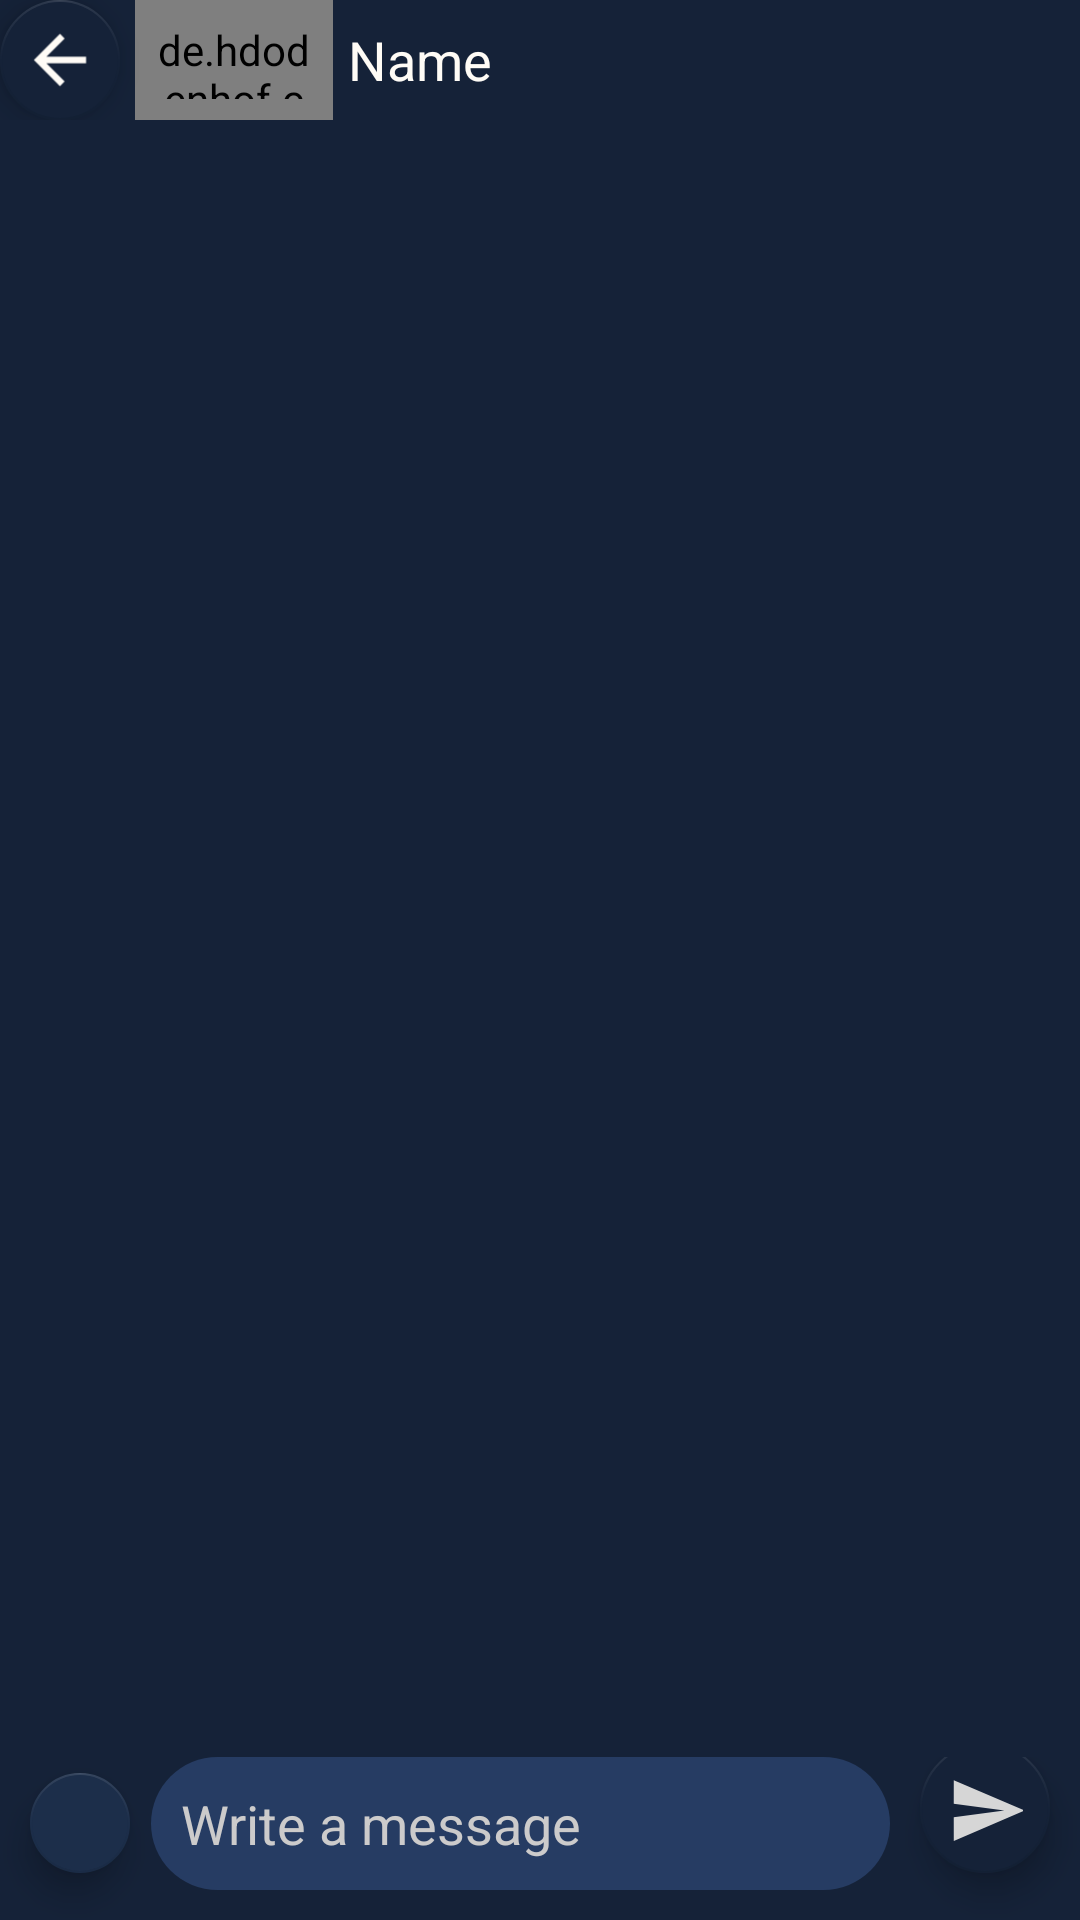

Point at icon controls on the screen. Image size 1080px x 1920px, points as [x,y].
return: [60,43]
